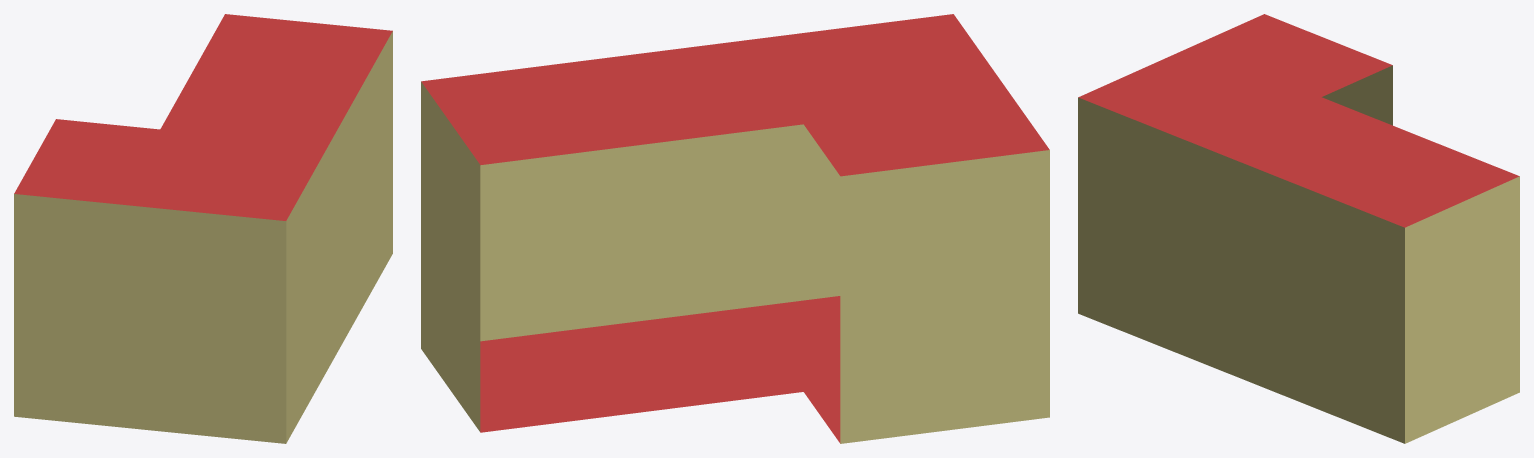
The picture shows the model from 3 angles, left to right: view 1: azimuth 30°, elevation 25°; view 2: azimuth 150°, elevation 25°; view 3: azimuth 270°, elevation 25°; orthographic projection. The views are drawn at different scales.
Bounding box in the file's own units: 11.76 × 10.27 × 5.55.
